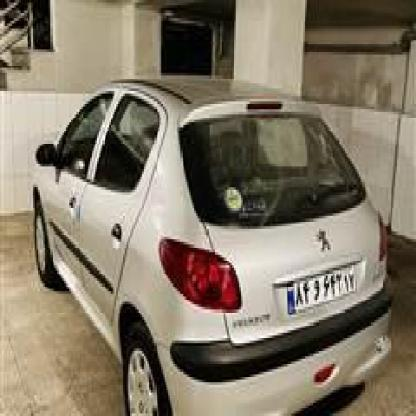Car: (26, 67, 395, 416)
